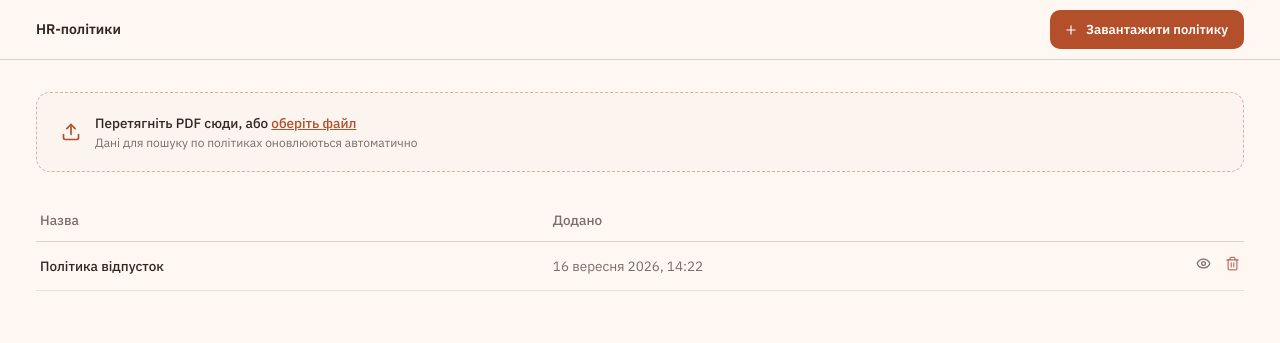
PoliciesPage › shows a specific message when the policy has no attached file (404)
Expected: the text "Політика відпусток" is shown, top-left (36, 241), bottom-right (549, 290)
Click the button named "Переглянути політику Політика відпусток".
click(1204, 263)  # box top-left (1196, 256), bottom-right (1211, 270)
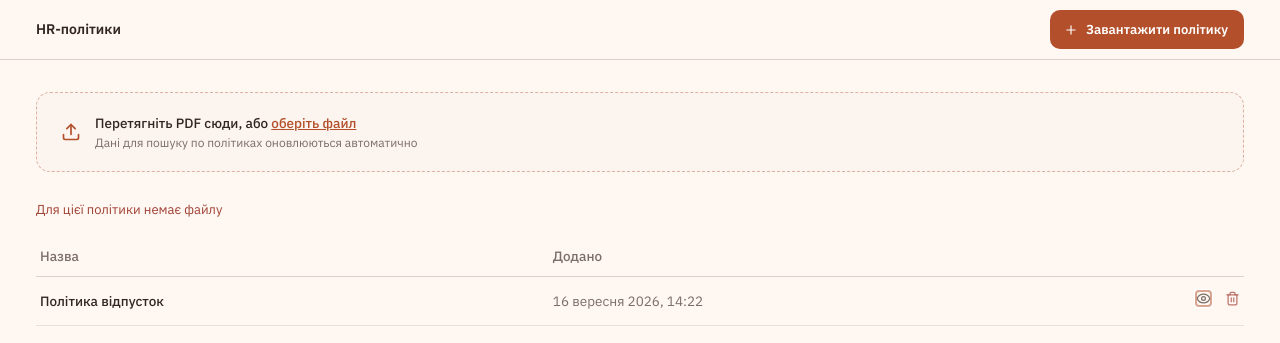
Expected: the text "Для цієї політики немає файлу" is shown, top-left (36, 201), bottom-right (222, 218)
